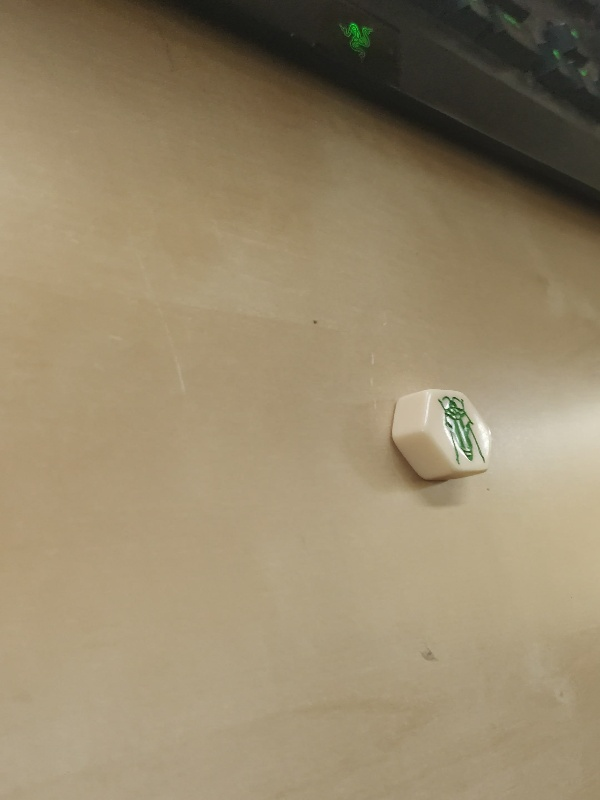white_grasshopper: (394, 390, 493, 483)
